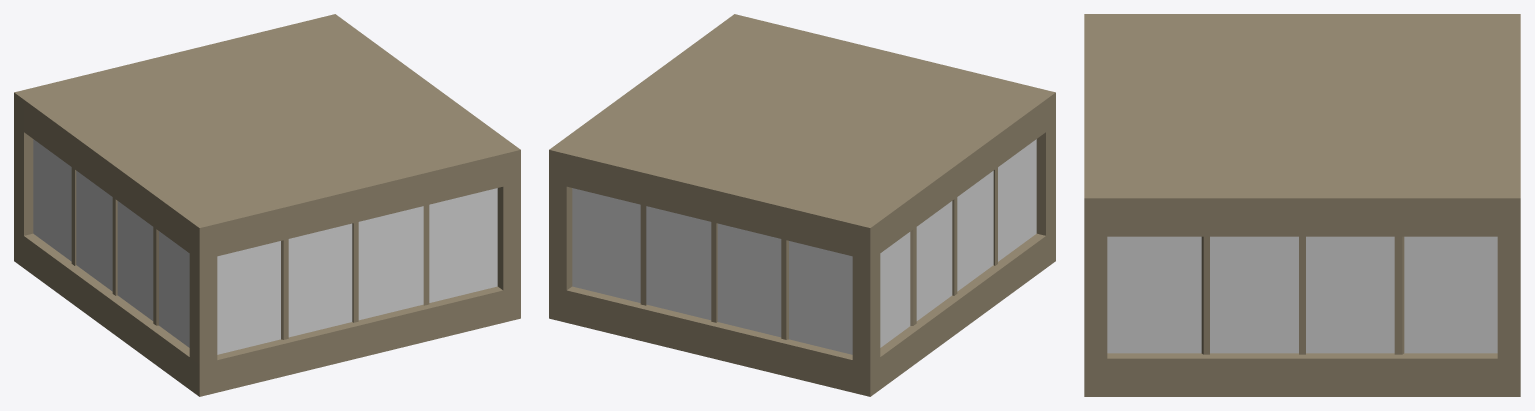
File: skyscraper mid section_copper.fbx
The picture shows the model from 3 angles, left to right: view 1: azimuth 30°, elevation 25°; view 2: azimuth 150°, elevation 25°; view 3: azimuth 270°, elevation 25°; orthographic projection. The views are drawn at different scales.
Visible parts, largest first — view 1: mid section skyscraper; view 2: mid section skyscraper; view 3: mid section skyscraper.
Boxes of the visible parts, x1,y1,x2,y2 form: mid section skyscraper: [14, 14, 520, 396]; mid section skyscraper: [549, 14, 1055, 396]; mid section skyscraper: [1084, 14, 1520, 396].
Bounding box in the file's own units: 1295 × 650 × 1295.
